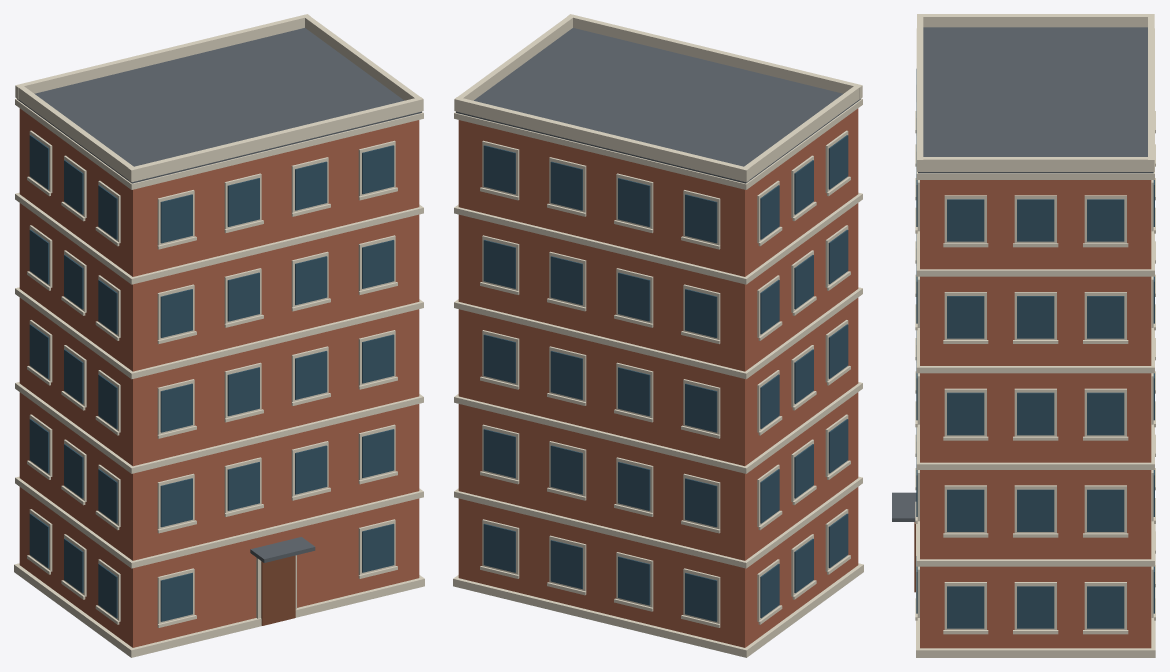
Rendered from 10-mid-rise.glb.
3 views of the same model, side by side, from view 1: azimuth 30°, elevation 25°; view 2: azimuth 150°, elevation 25°; view 3: azimuth 270°, elevation 25° (orthographic). The views are drawn at different scales.
Visible parts, largest first — view 1: 10-mid-rise; view 2: 10-mid-rise; view 3: 10-mid-rise.
Part boxes in pixels (<box>): 10-mid-rise: <box>14,14,424,657</box>; 10-mid-rise: <box>453,14,863,657</box>; 10-mid-rise: <box>892,14,1155,657</box>.
Size of the model in its own units: 9.76 by 15.44 by 7.42.
